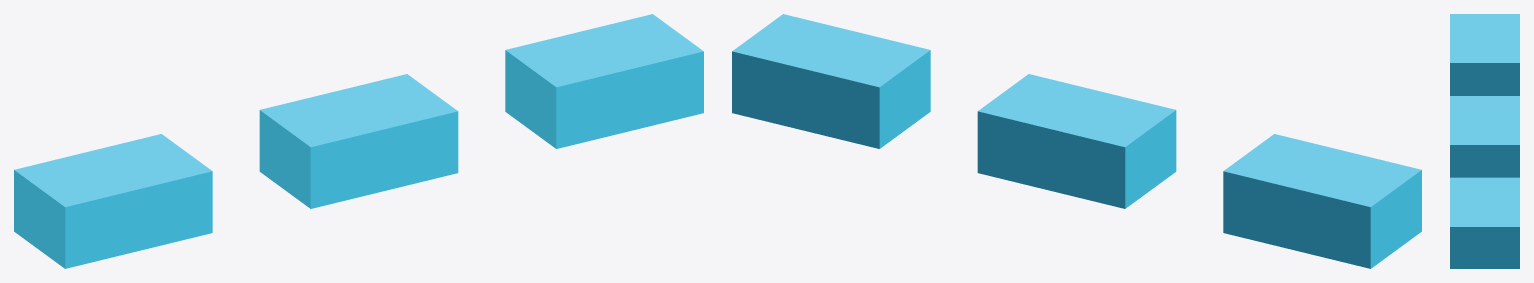
Rendered from Link_DashH.gltf.
3 renders of one model, left to right at view 1: azimuth 30°, elevation 25°; view 2: azimuth 150°, elevation 25°; view 3: azimuth 270°, elevation 25°, orthographic. The views are drawn at different scales.
Parts seen in each view (by area): view 1: Link_DashH_baked; view 2: Link_DashH_baked; view 3: Link_DashH_baked.
Part boxes in pixels (x1,y1,x2,y2): Link_DashH_baked: (14,14,703,268); Link_DashH_baked: (732,14,1421,268); Link_DashH_baked: (1450,14,1519,268).
Bounding box in the file's own units: 0.866 × 0.08 × 0.12.
